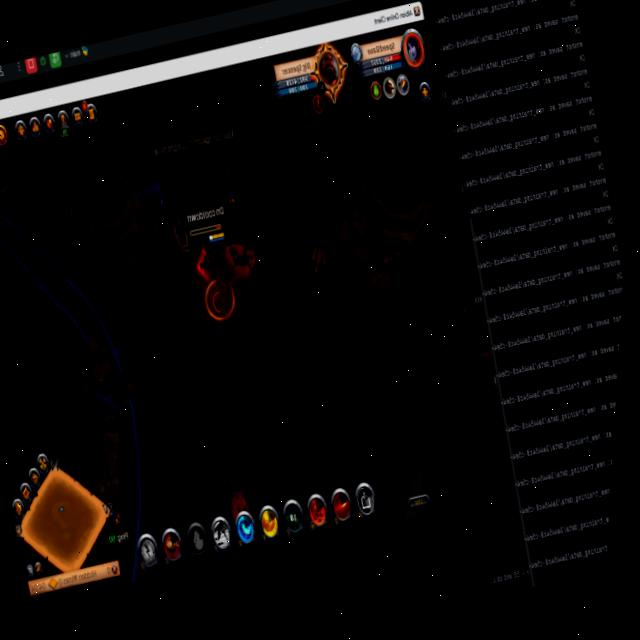ore: (178, 213, 273, 330)
red: (189, 230, 238, 290)
